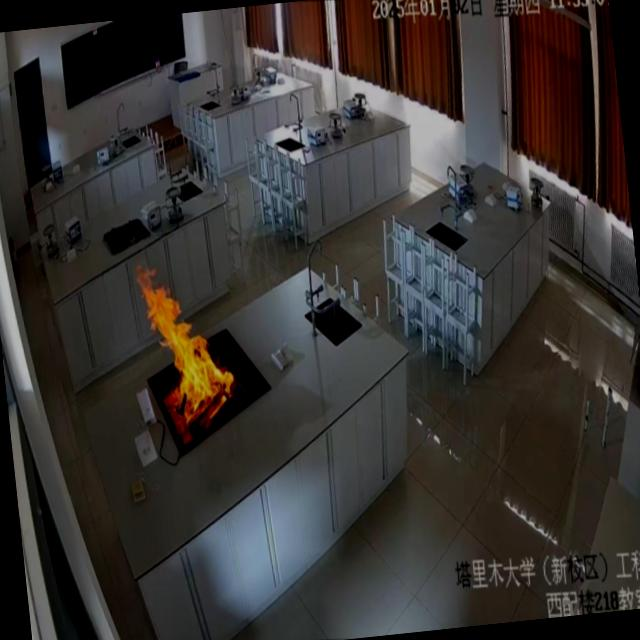fire: (122, 239, 252, 457)
